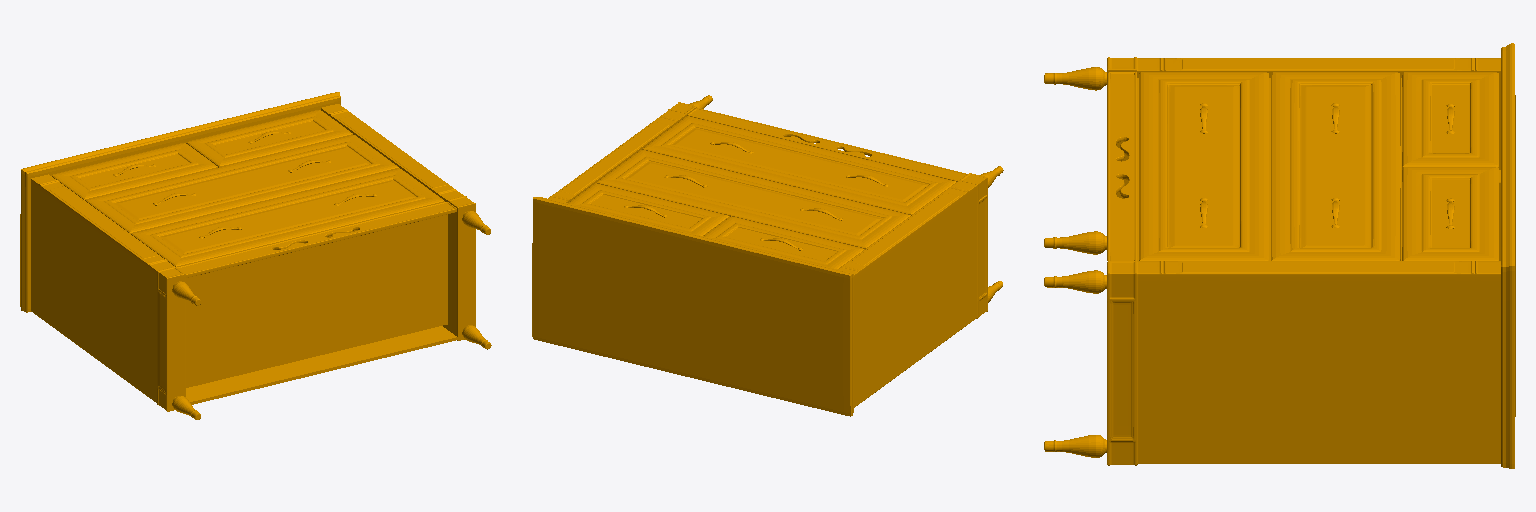
URDF robot description (none):
<robot name="none">
       <link name="none">
           <visual>
               <origin rpy=" 0 0 0" xyz="0 0 0" />
               <geometry>
                   <mesh filename="uploads_files_2740235_Drawer_chest.obj"  scale="1 1 1"/>
               </geometry>
           </visual>
          <collision>
<origin rpy="1.57 0 0" xyz="0 0 0.5" />
              <geometry>
                  <box size=" 1.060000 1.00000 0.850000" />
              </geometry>
          </collision>

          <inertial>
            <mass value=".0" />
            <inertia ixx="0.05" ixy="0.0" ixz="0.0" iyy="0.05" iyz="0.0" izz="0.05"/>
          </inertial>
      </link>
  </robot>

--- Facts derived from the render (not from the file) ---
3 views of the same robot in one strip: view 1: azimuth 30°, elevation 25°; view 2: azimuth 150°, elevation 25°; view 3: azimuth 270°, elevation 25° (orthographic).
Robot: none — 1 links, 0 joints (none); root link none; default pose: every joint at zero.
Links seen in each view (by area): view 1: none; view 2: none; view 3: none.
Boxes of the visible links, box(x1,y1,x2,y2) form: none: box(20, 92, 491, 419); none: box(532, 95, 1003, 416); none: box(1044, 43, 1515, 468).
Bounding box of the posed robot: 1.07 × 0.95 × 0.4523 m (x, y, z).
1 mesh visuals loaded from 1 distinct referenced files (1 OBJ).